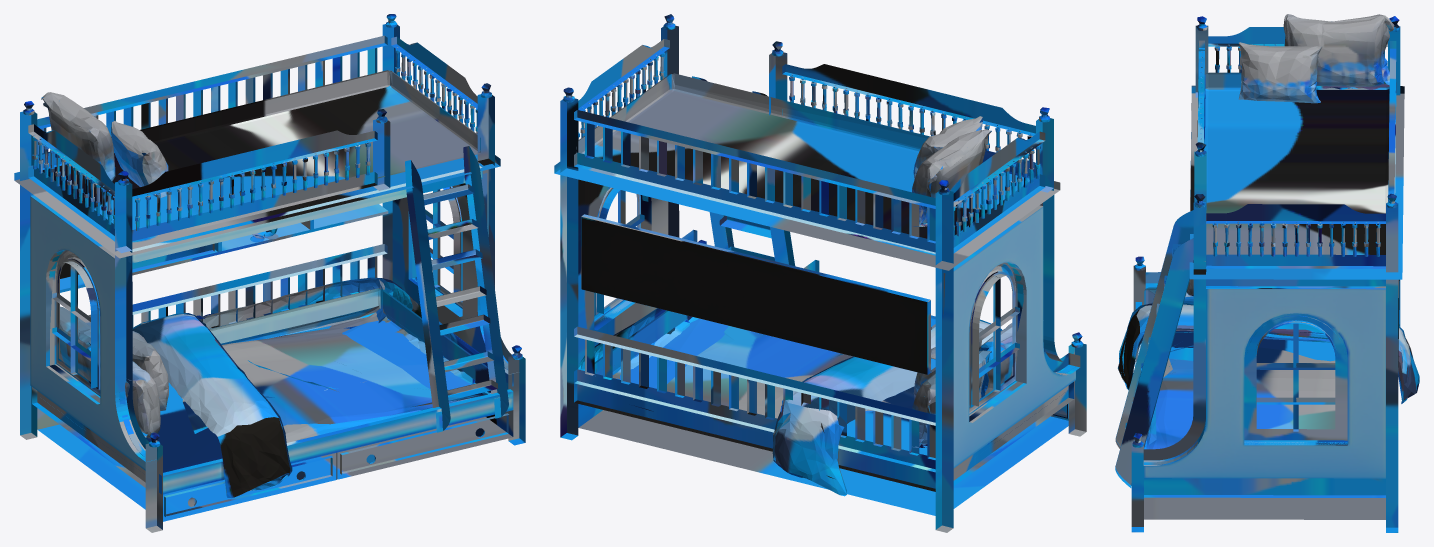
The model's file is edited_mesh.glb.
3 views of the same model, side by side, from view 1: azimuth 30°, elevation 25°; view 2: azimuth 150°, elevation 25°; view 3: azimuth 270°, elevation 25° (orthographic). The views are drawn at different scales.
Visible parts, largest first — view 1: solid_001_wire; view 2: solid_001_wire; view 3: solid_001_wire.
Part boxes in pixels (left/top/right/bottom): solid_001_wire: left=14, top=14, right=525, bottom=532; solid_001_wire: left=554, top=14, right=1086, bottom=532; solid_001_wire: left=1115, top=14, right=1419, bottom=532.
Bounding box in the file's own units: 1.47 × 1.27 × 1.01.
1 material, 1 textured.
